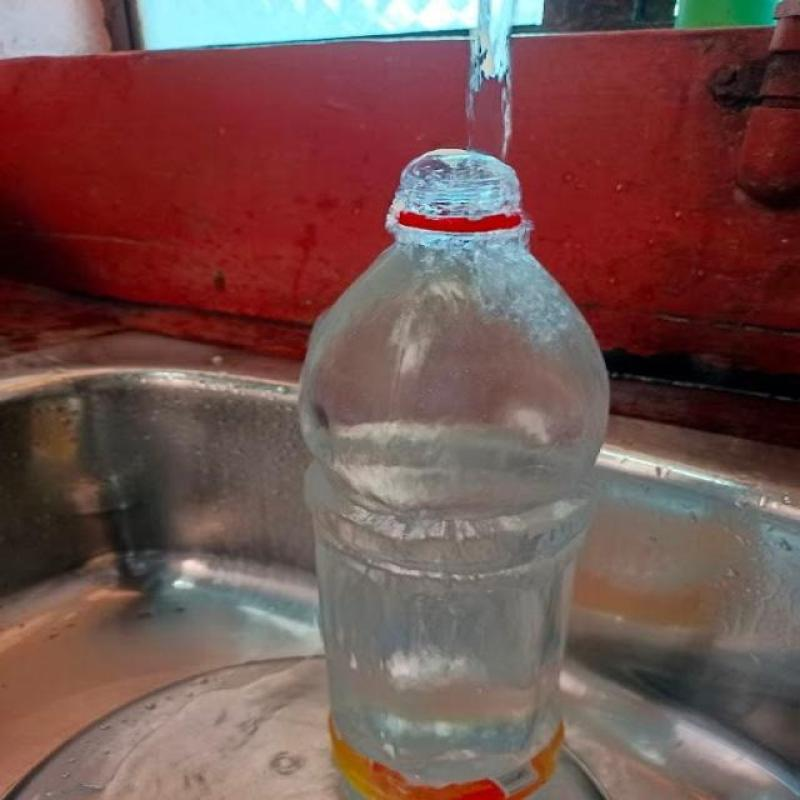botella: (296, 154, 610, 800)
